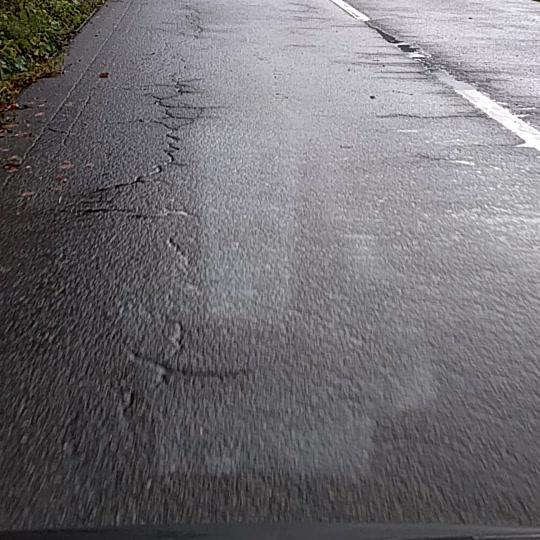D10: (372, 103, 482, 123)
D20: (92, 70, 220, 380)
